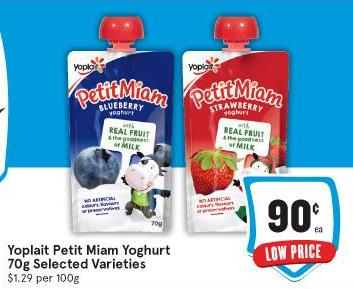description_block: (0, 238, 175, 273)
price_main: (243, 176, 333, 238)
product_image_block: (55, 13, 260, 240)
promo_text_block: (240, 241, 346, 270)
unit_price_block: (0, 271, 91, 286)
